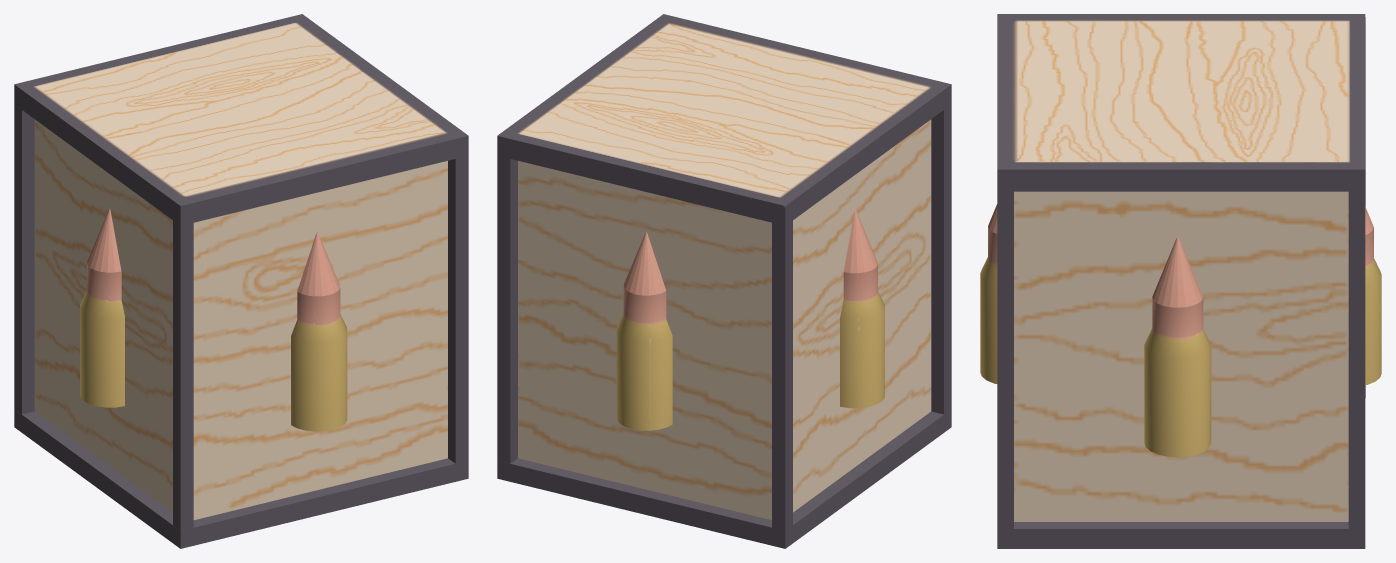
Rendered from amo pick up af.fbx.
3 views of the same model, side by side, from view 1: azimuth 30°, elevation 25°; view 2: azimuth 150°, elevation 25°; view 3: azimuth 270°, elevation 25° (orthographic). The views are drawn at different scales.
Visible parts, largest first — view 1: polySurface5; view 2: polySurface5; view 3: polySurface5.
Boxes of the visible parts, x1,y1,x2,y2 form: polySurface5: (14, 14, 468, 548); polySurface5: (497, 14, 951, 548); polySurface5: (980, 14, 1381, 548).
Size of the model in its own units: 24.04 by 25 by 23.99.
1 material, 1 textured.
